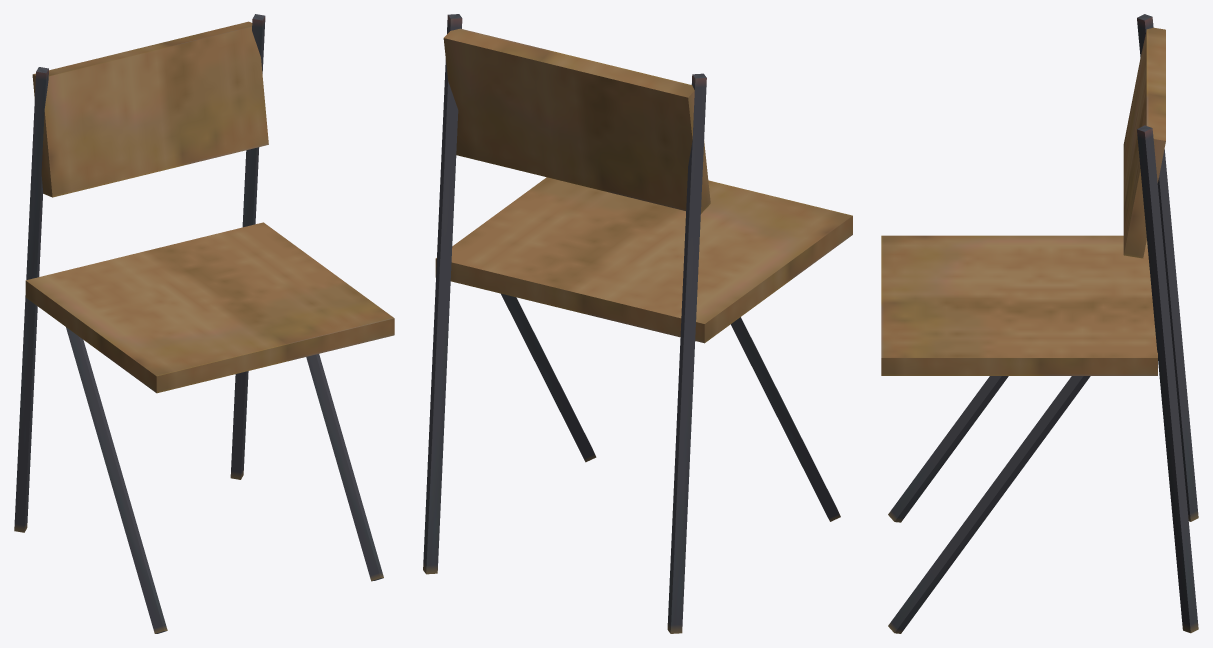
The model's file is chair_folding_wood.obj.
The picture shows the model from 3 angles, left to right: view 1: azimuth 30°, elevation 25°; view 2: azimuth 150°, elevation 25°; view 3: azimuth 270°, elevation 25°; orthographic projection. The views are drawn at different scales.
Parts seen in each view (by area): view 1: chair_folding_wood; view 2: chair_folding_wood; view 3: chair_folding_wood.
Part boxes in pixels (x1,y1,x2,y2): chair_folding_wood: (14,14,394,633); chair_folding_wood: (423,14,852,633); chair_folding_wood: (881,14,1198,633).
Size of the model in its own units: 0.44 by 0.8477 by 0.482.
1 material, 1 textured.
